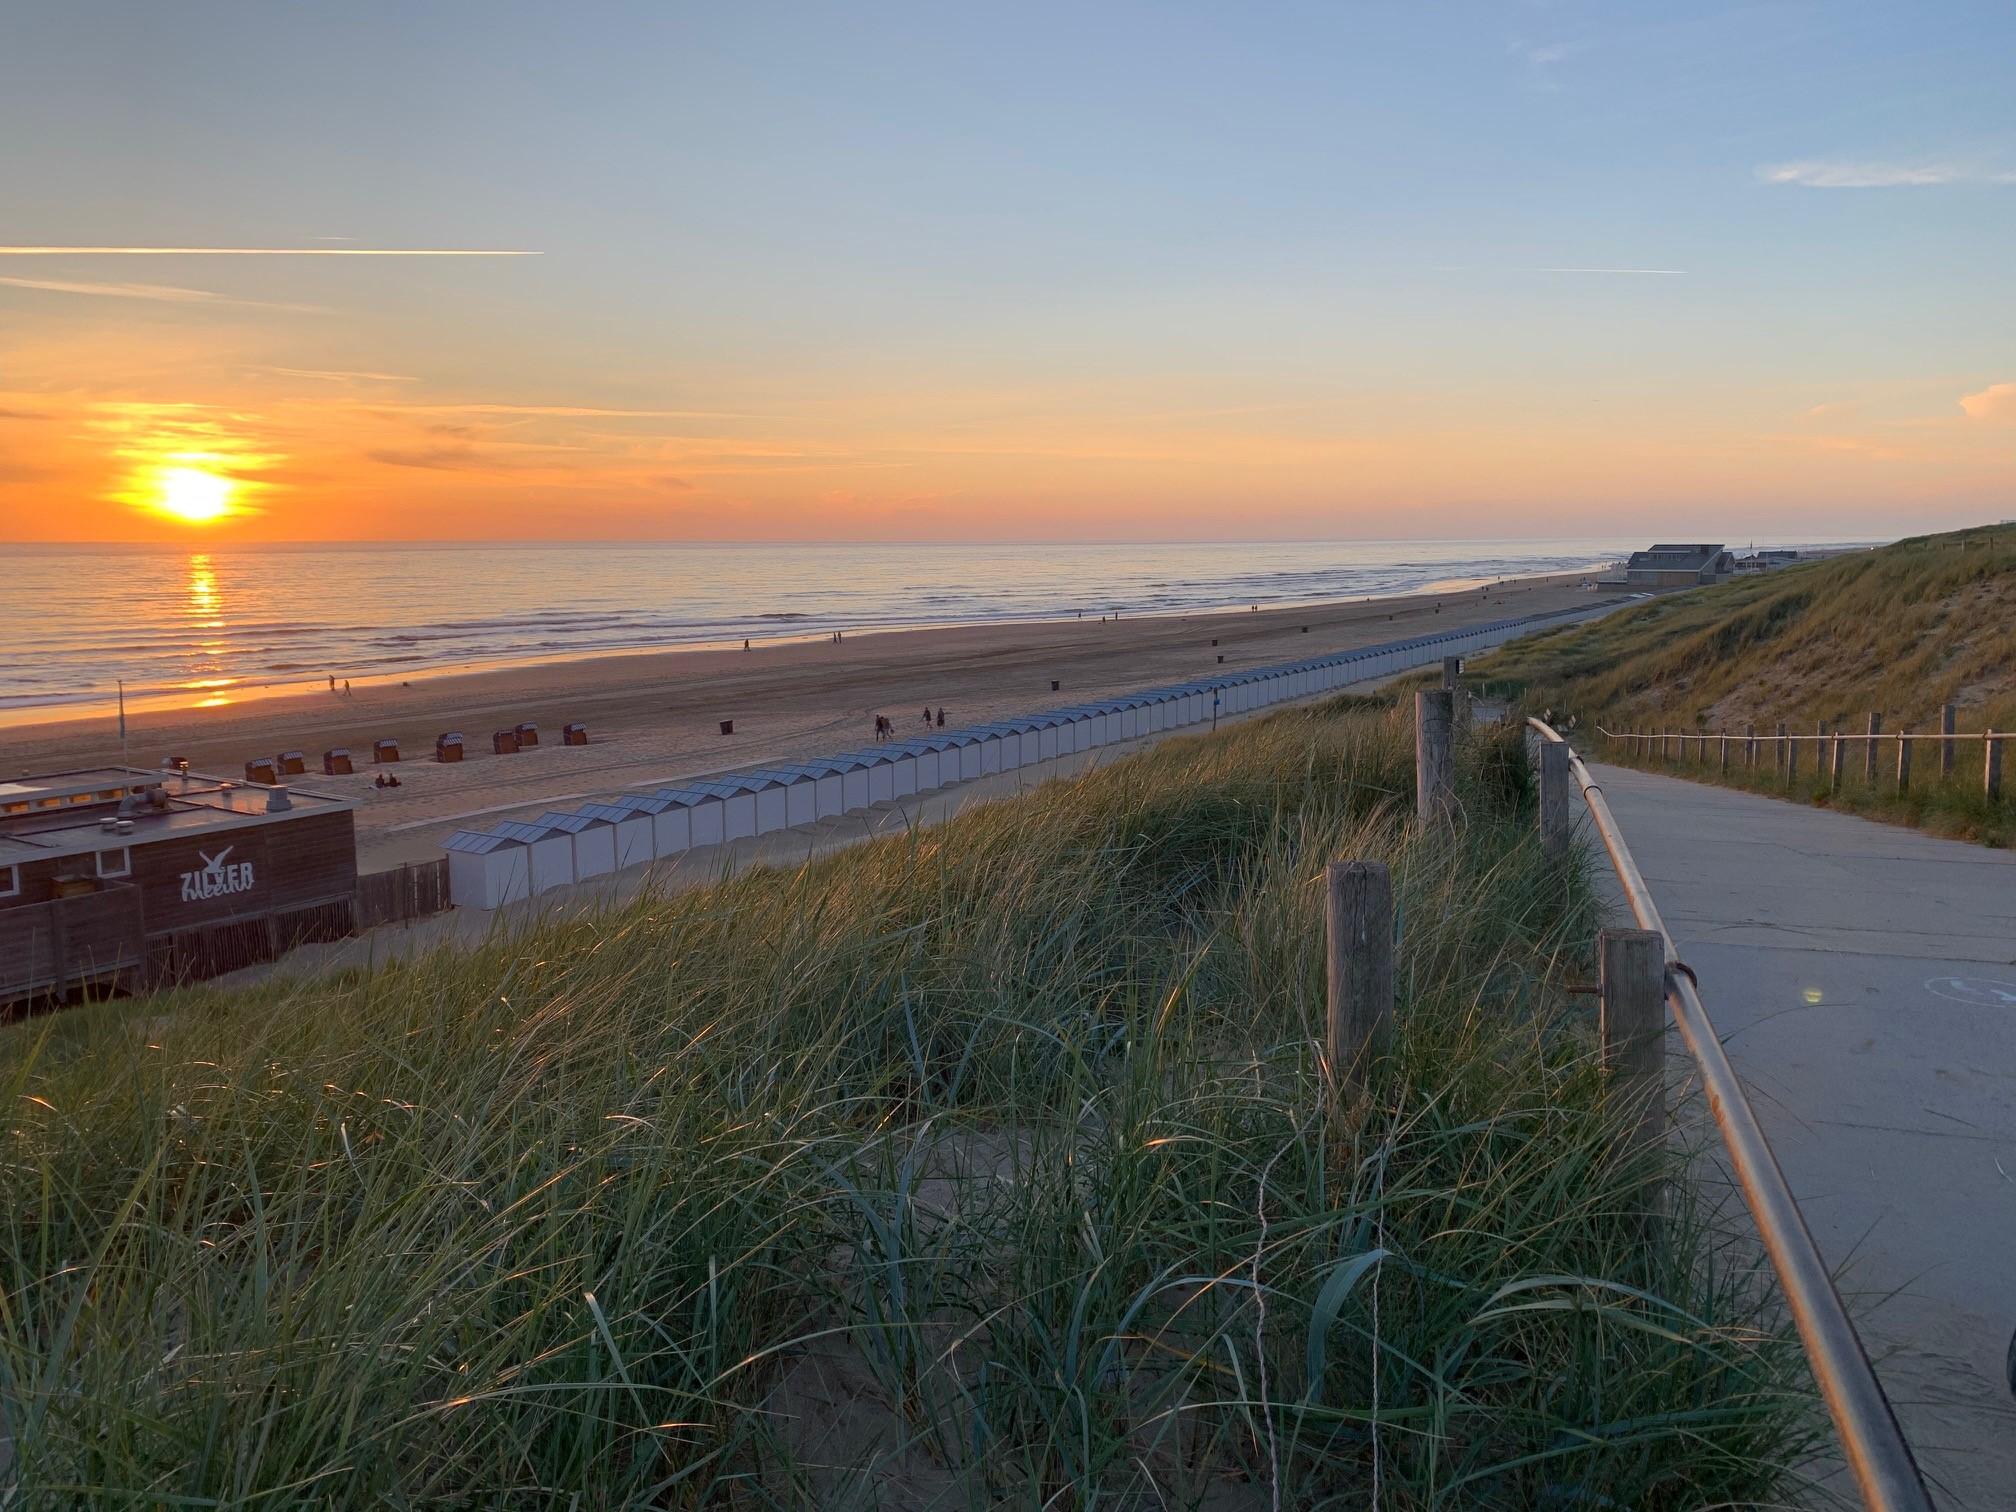strandtent: (1579, 530, 1757, 599)
